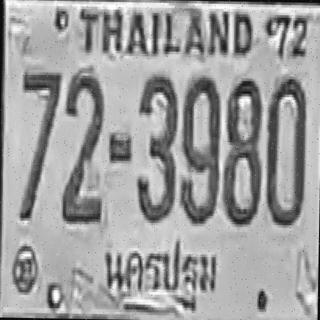N00: (265, 76, 307, 225)
N02: (60, 68, 103, 222)
N03: (135, 72, 178, 220)
N07: (18, 68, 61, 220)
N08: (222, 76, 262, 224)
N09: (179, 74, 220, 222)
P28: (99, 232, 221, 315)
